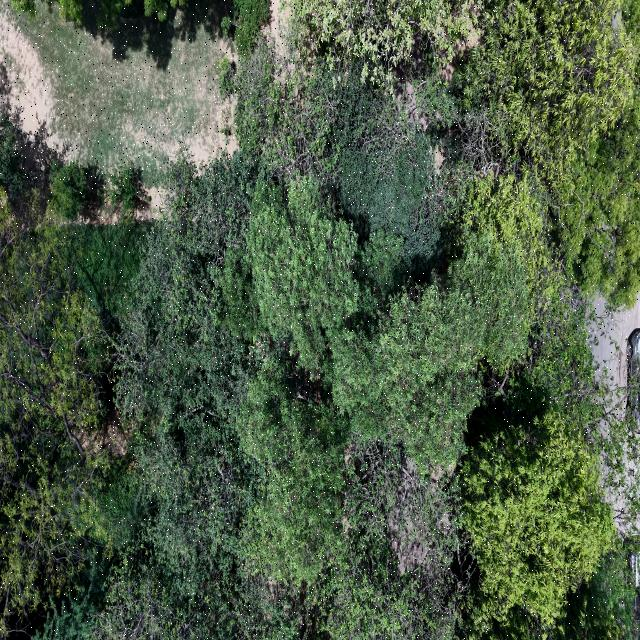DRY_AREA: (0, 0, 232, 192), (588, 295, 639, 416), (589, 295, 639, 391)
VEGETATION_TREE: (0, 0, 639, 639), (0, 221, 110, 635), (462, 1, 637, 185), (462, 410, 615, 620), (238, 357, 348, 581), (557, 64, 639, 306), (458, 549, 636, 639), (558, 109, 639, 306), (47, 0, 268, 69), (296, 0, 478, 83), (65, 221, 146, 320), (48, 162, 86, 219), (0, 112, 25, 197), (234, 0, 270, 55), (108, 168, 142, 217)
